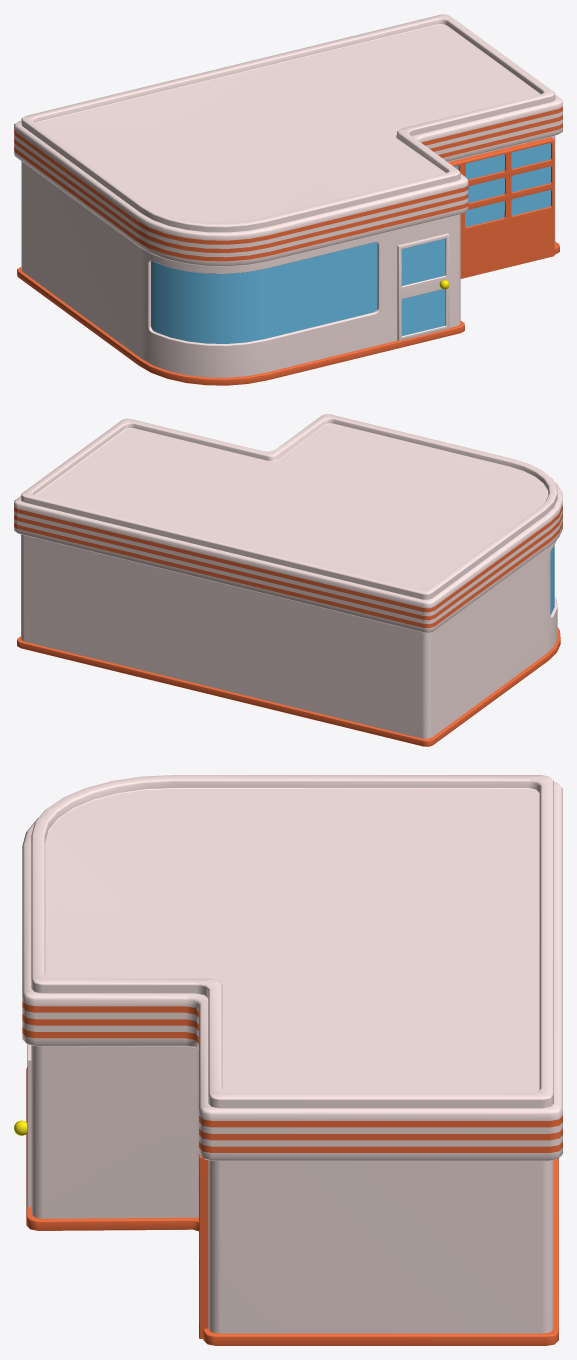
File: Public_5_Gas_Station_Building_1.glb
3 views of the same model, one above another, from view 1: azimuth 30°, elevation 25°; view 2: azimuth 150°, elevation 25°; view 3: azimuth 270°, elevation 25° (orthographic). The views are drawn at different scales.
Visible parts, largest first — view 1: Public_5_Gas_Station_Building_1; view 2: Public_5_Gas_Station_Building_1; view 3: Public_5_Gas_Station_Building_1.
Boxes of the visible parts, x1,y1,x2,y2 form: Public_5_Gas_Station_Building_1: [14, 14, 562, 385]; Public_5_Gas_Station_Building_1: [14, 414, 562, 746]; Public_5_Gas_Station_Building_1: [14, 775, 562, 1345].
Size of the model in its own units: 12.52 by 4.32 by 8.75.
1 material, 1 textured.
